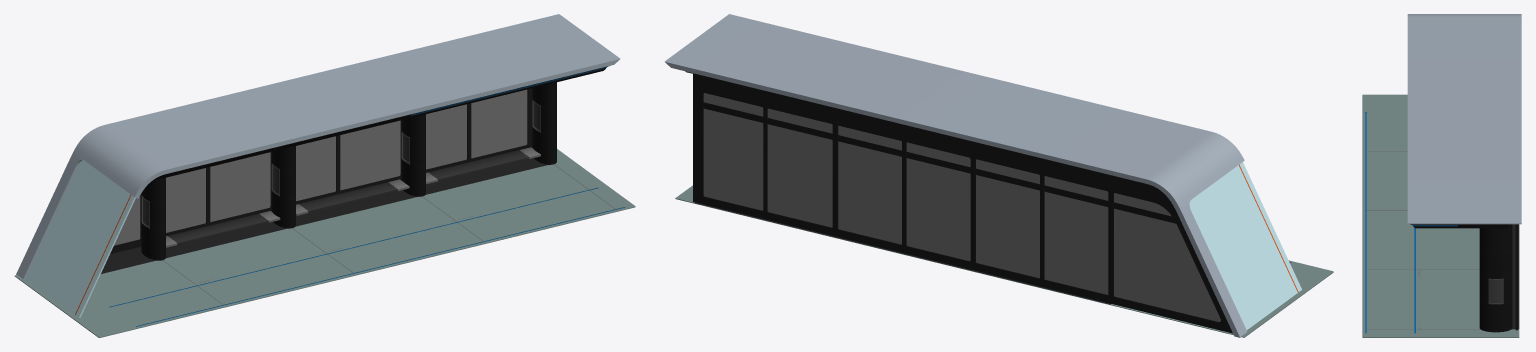
File: W_O_Busstop_002_L0.fbx
3 views of the same model, side by side, from view 1: azimuth 30°, elevation 25°; view 2: azimuth 150°, elevation 25°; view 3: azimuth 270°, elevation 25° (orthographic). The views are drawn at different scales.
Visible parts, largest first — view 1: W_O_Busstop_002_L0; view 2: W_O_Busstop_002_L0; view 3: W_O_Busstop_002_L0.
Boxes of the visible parts, x1,y1,x2,y2 form: W_O_Busstop_002_L0: [14, 14, 635, 337]; W_O_Busstop_002_L0: [664, 14, 1333, 337]; W_O_Busstop_002_L0: [1362, 14, 1521, 337].
Bounding box in the file's own units: 29.57 × 6.66 × 8.06.
